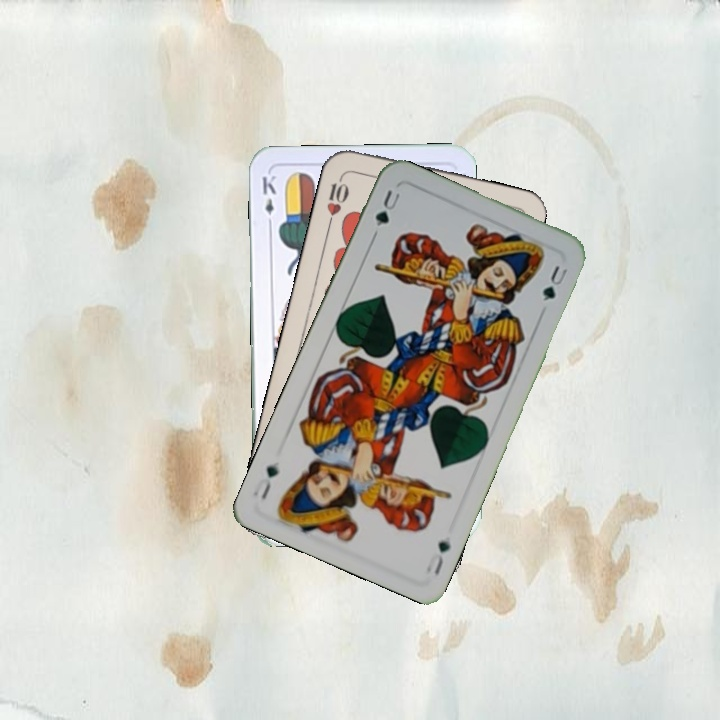EK: (258, 171, 278, 230)
GU: (371, 186, 403, 229), (422, 536, 453, 579)
H10: (322, 170, 352, 228)
